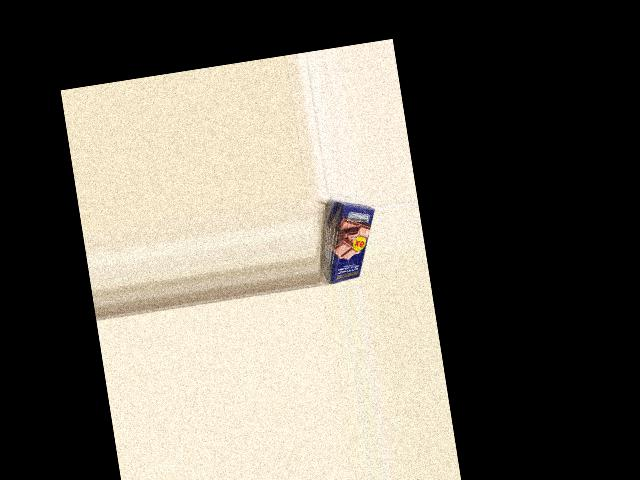chocolate: (313, 198, 385, 285)
